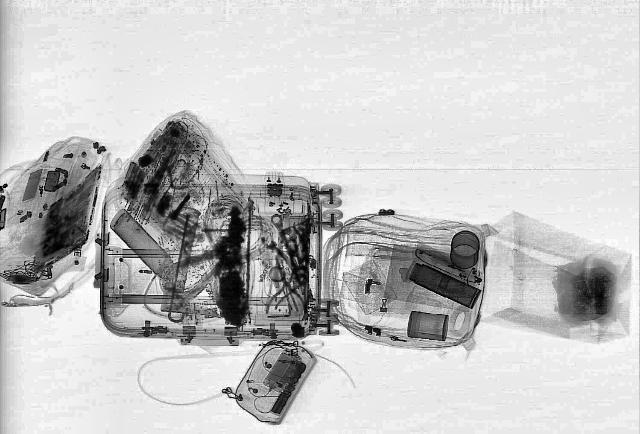Pliers: (264, 267, 308, 315)
